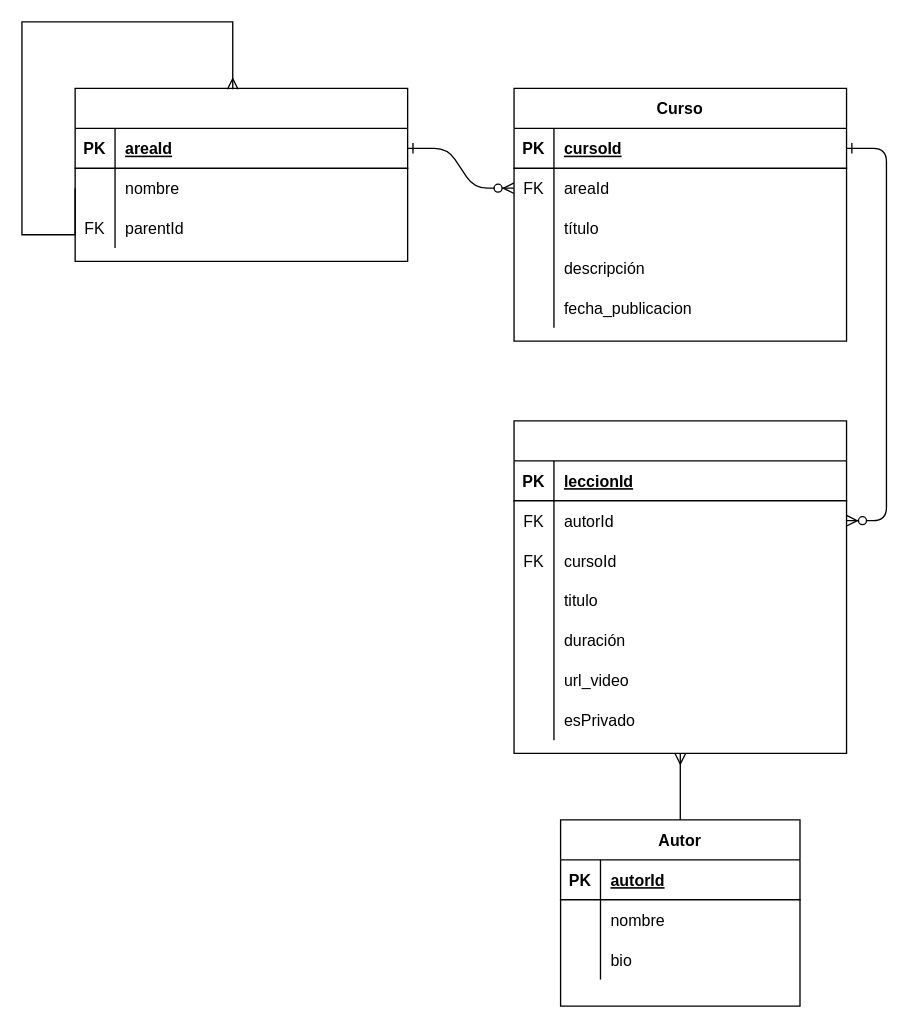
Some shapes in this 908 by 1028 pixel diagram are drawn without their labels. Here are the shapes that lost their labels. From the top down, the box of each, then its label:
(74, 87, 408, 261): Área
(513, 420, 847, 753): Lección
